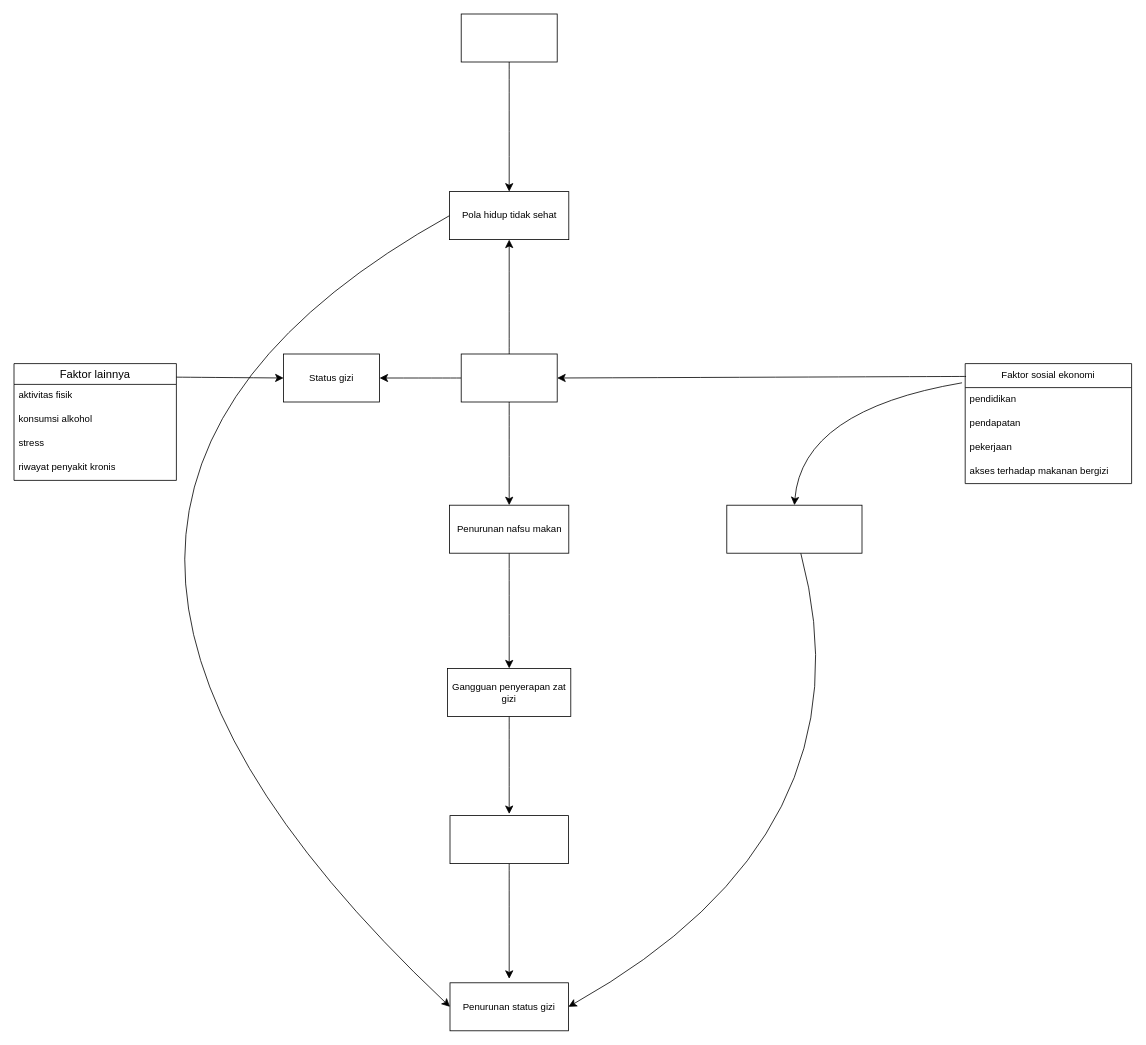
This 1146x1045 diagram has some shape labels left out. Each missing label, with the centre of its shape:
Merokok: the point at 508,377
Paparan Asap Rokok: the point at 508,37
Perubahan metabolisme: the point at 508,839
Pola makan tidak sehat: the point at 794,528
